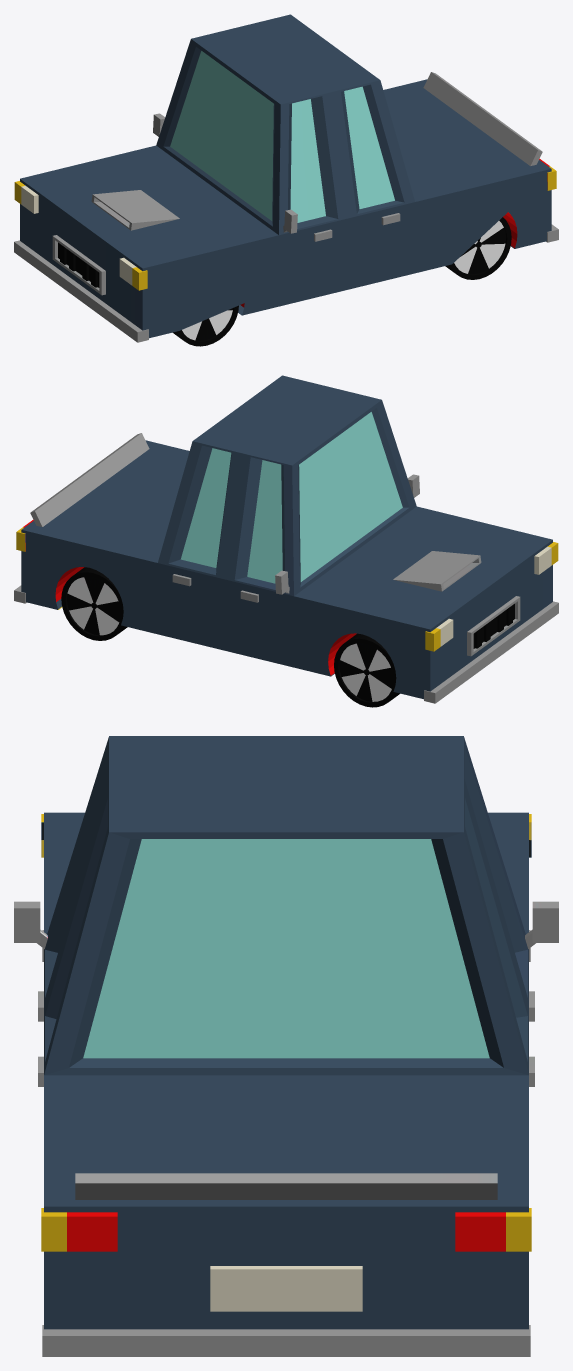
Rendered from carB.fbx.
The picture shows the model from 3 angles, top to bottom: view 1: azimuth 30°, elevation 25°; view 2: azimuth 150°, elevation 25°; view 3: azimuth 270°, elevation 25°; orthographic projection. The views are drawn at different scales.
Visible parts, largest first — view 1: Cube, Cylinder.004, Cylinder; view 2: Cube, Cylinder.001, Cylinder.005; view 3: Cube.
Part boxes in pixels (x1=…): Cube: x1=14, y1=14, x2=558, y2=342; Cylinder.004: x1=445, y1=217, x2=511, y2=279; Cylinder: x1=173, y1=305, x2=238, y2=346; Cube: x1=14, y1=375, x2=558, y2=703; Cylinder.001: x1=61, y1=567, x2=127, y2=640; Cylinder.005: x1=334, y1=633, x2=399, y2=707; Cube: x1=14, y1=736, x2=558, y2=1356.
Bounding box in the file's own units: 618 × 295 × 351.
Materials: 4 (4 with a texture image).
